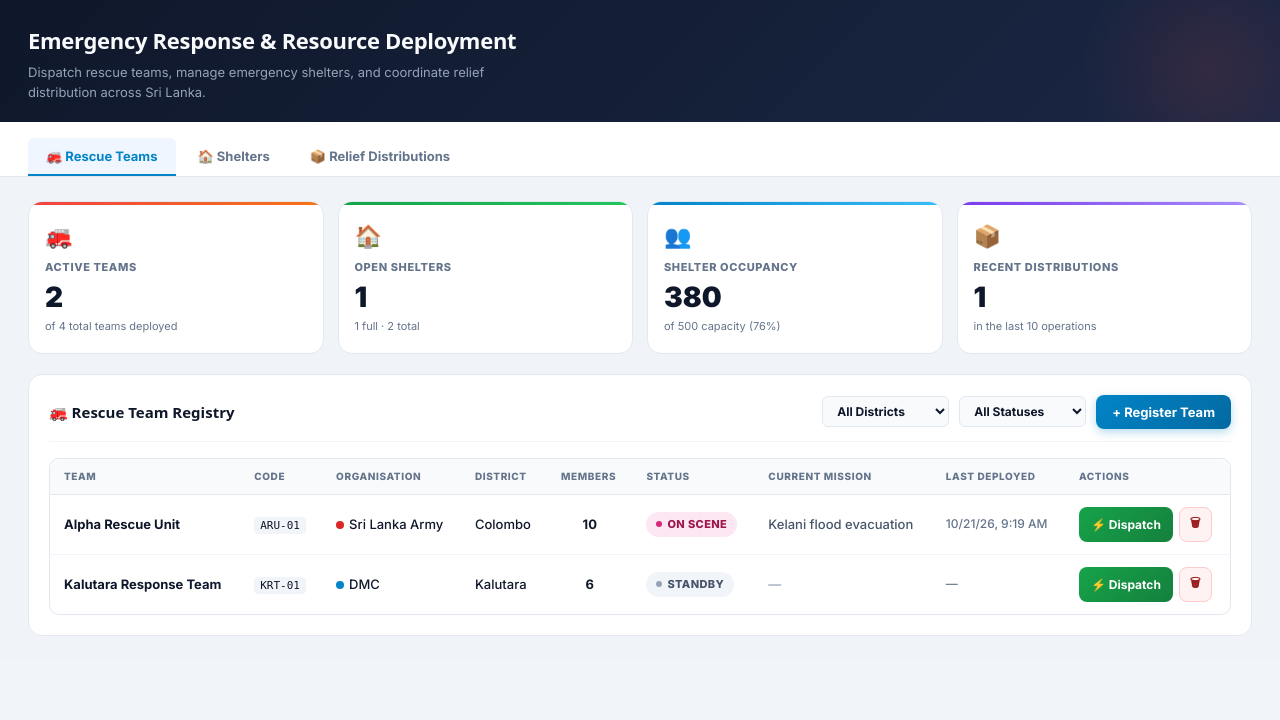
Test: EmergencyCoordinationDashboard – Filters & Empty States › TC-EC-14: Empty shelters list shows empty state message
Check: the text "Alpha Rescue Unit" is shown, box [50, 494, 240, 554]
Click the button "🏠 Shelters" at (234, 157), box [180, 138, 288, 176]
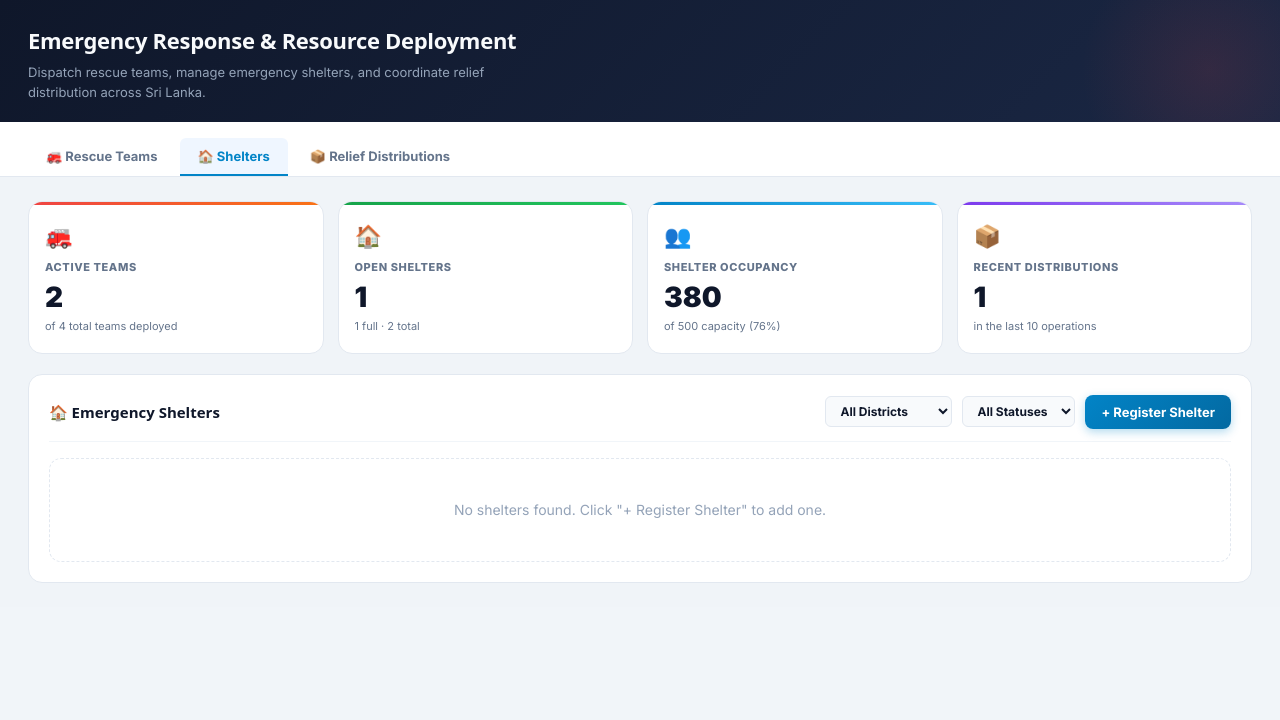
Check: the text "No shelters found. Click \"+ Register Shelter\" to add one." is shown, box [49, 458, 1231, 562]
